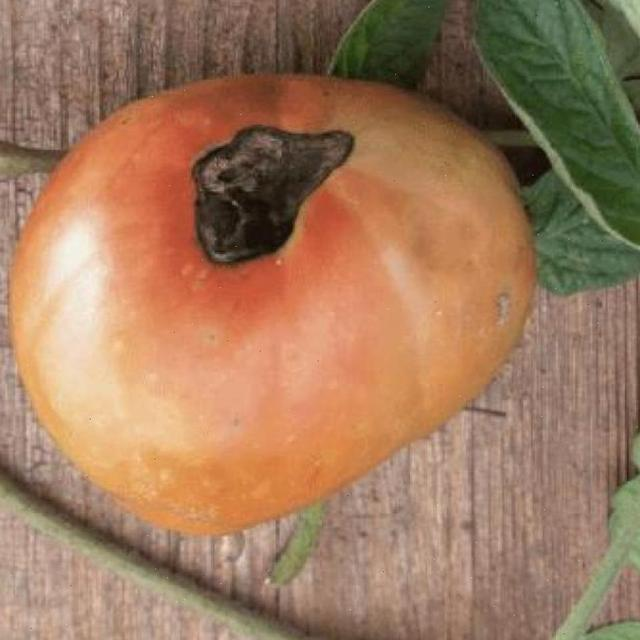Blossom End Rot Fruit: (126, 80, 236, 180)
